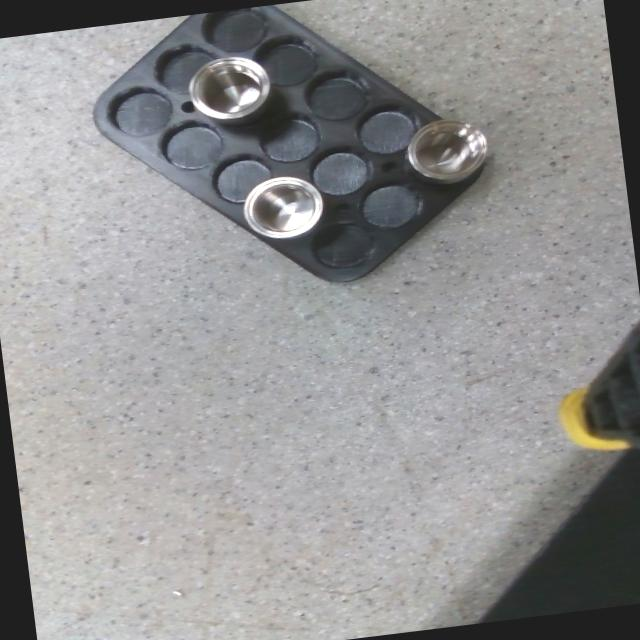sensor: (404, 112, 491, 184), (185, 52, 272, 123), (240, 172, 327, 241)
